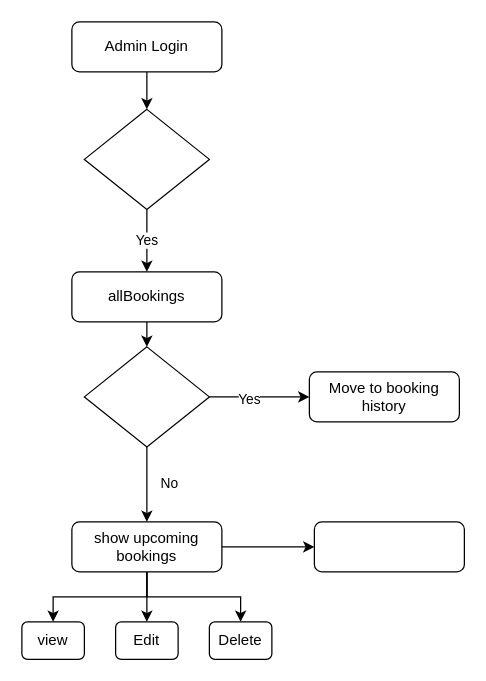
Some shapes in this 486 by 681 pixel diagram are drawn without their labels. Here are the shapes that lost their labels. From the top down, the box of each, then its label:
(83, 108, 209, 209): Logged in?
(83, 346, 209, 447): status is expired?
(313, 521, 464, 572): Logout
